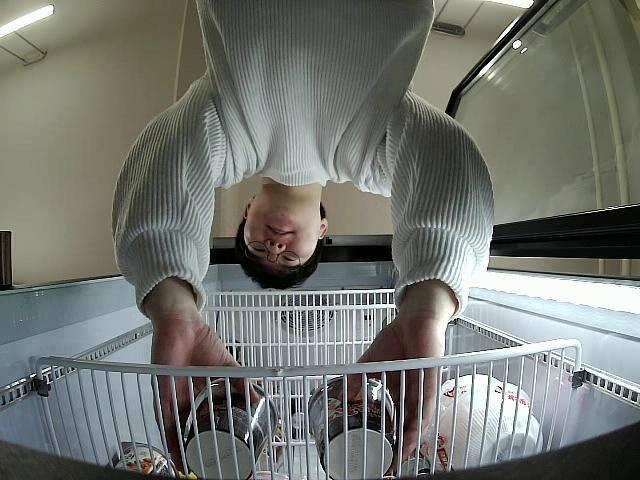08_buldak_S: (180, 378, 278, 478), (308, 374, 396, 480)
